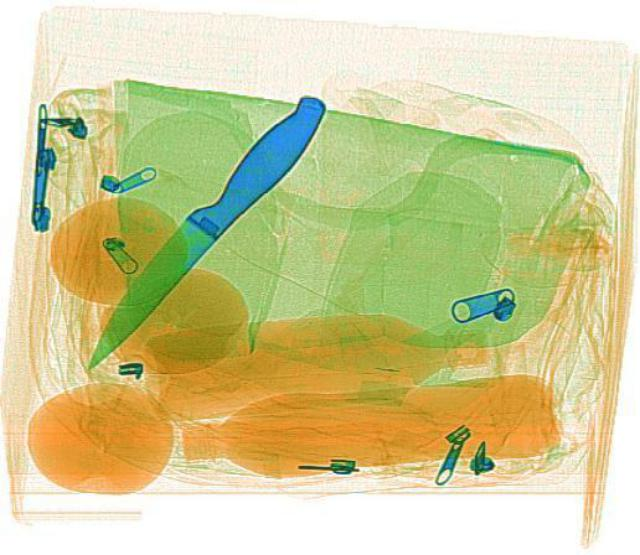Knife: (63, 84, 337, 383)
